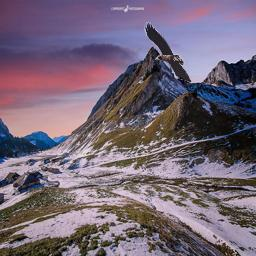Crow: (144, 22, 192, 83)
